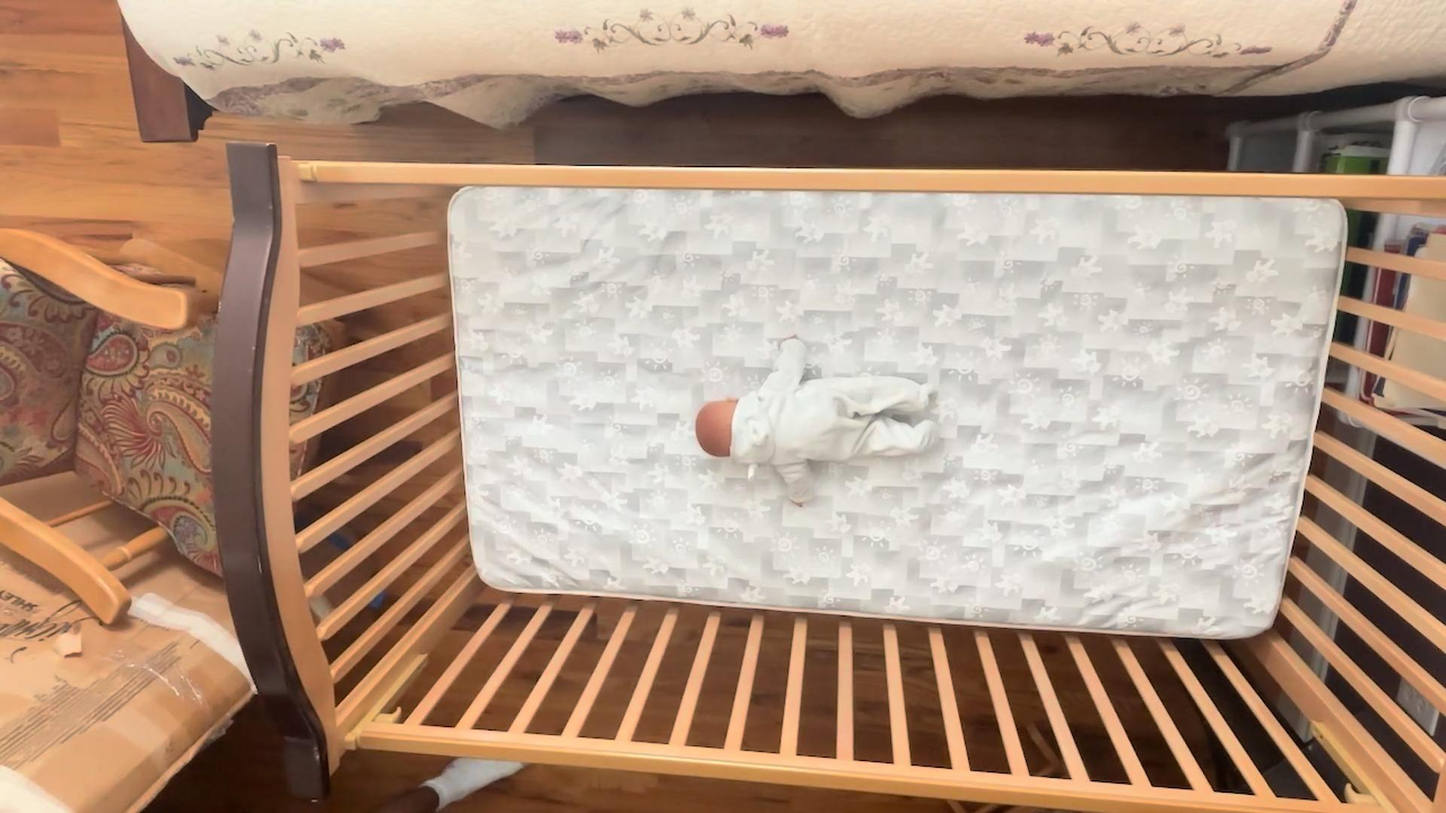baby: (691, 334, 944, 512)
